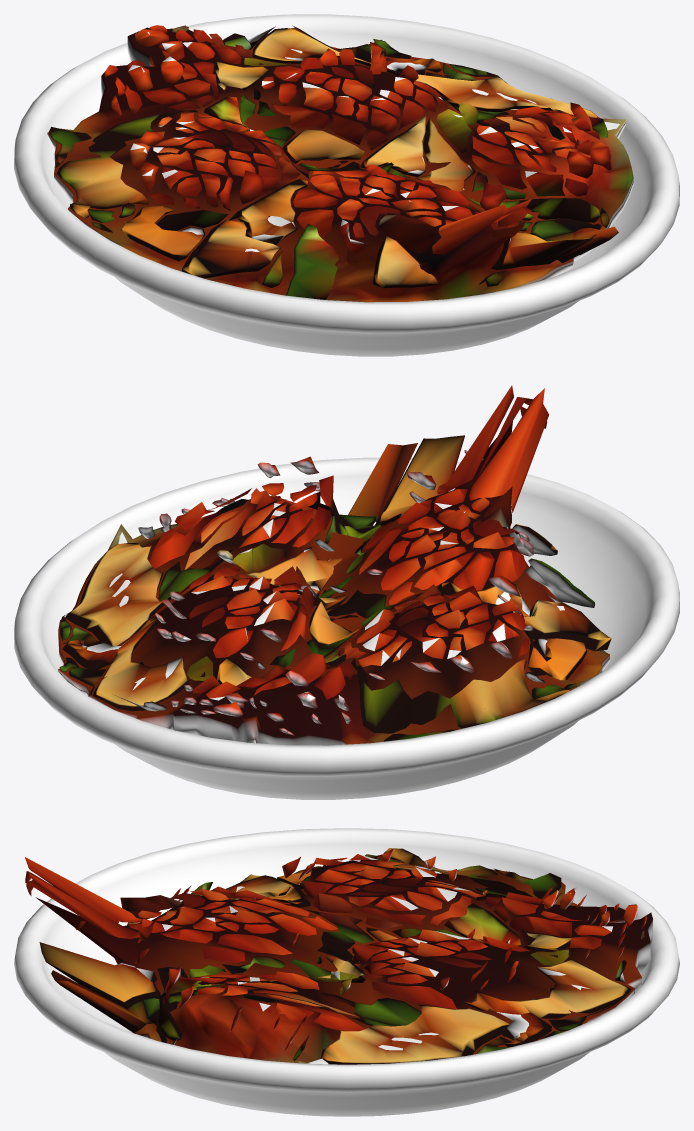
3 renders of one model, top to bottom at view 1: azimuth 30°, elevation 25°; view 2: azimuth 150°, elevation 25°; view 3: azimuth 270°, elevation 25°, orthographic. The views are drawn at different scales.
Parts seen in each view (by area): view 1: SM_D15; view 2: SM_D15; view 3: SM_D15.
Part boxes in pixels (x1=…): SM_D15: x1=14, y1=14, x2=679, y2=356; SM_D15: x1=14, y1=385, x2=679, y2=799; SM_D15: x1=14, y1=828, x2=679, y2=1116.
Size of the model in its own units: 0.183 by 0.0581 by 0.2087.
